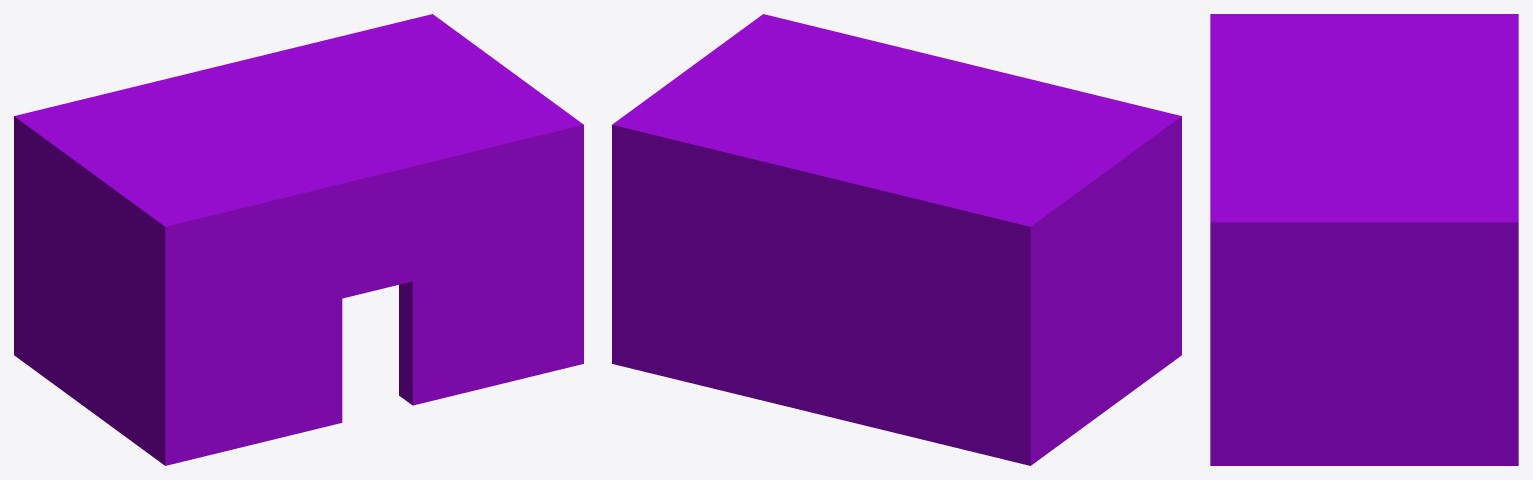
The model's file is Postinho.fbx.
The picture shows the model from 3 angles, left to right: view 1: azimuth 30°, elevation 25°; view 2: azimuth 150°, elevation 25°; view 3: azimuth 270°, elevation 25°; orthographic projection.
Parts seen in each view (by area): view 1: pCube154; view 2: pCube154; view 3: pCube154.
Part boxes in pixels (x1=…): pCube154: x1=14, y1=14, x2=583, y2=465; pCube154: x1=612, y1=14, x2=1181, y2=465; pCube154: x1=1210, y1=14, x2=1518, y2=465.
Size of the model in its own units: 808 by 441 by 506.
